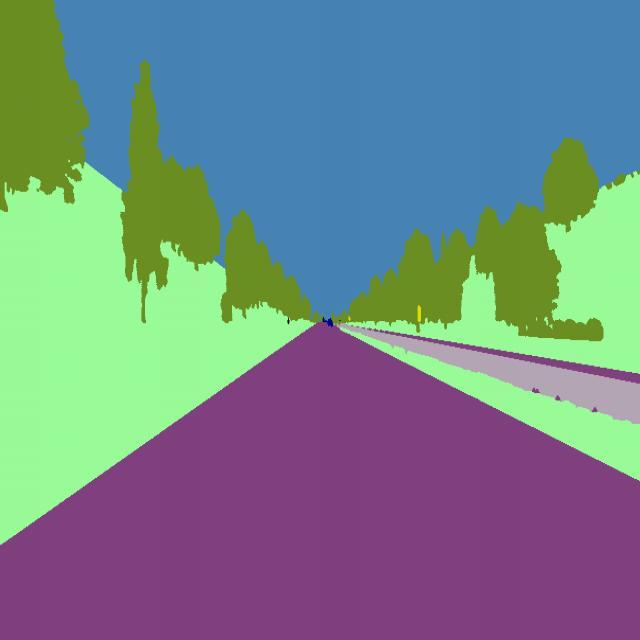safe: (324, 316, 338, 328)
